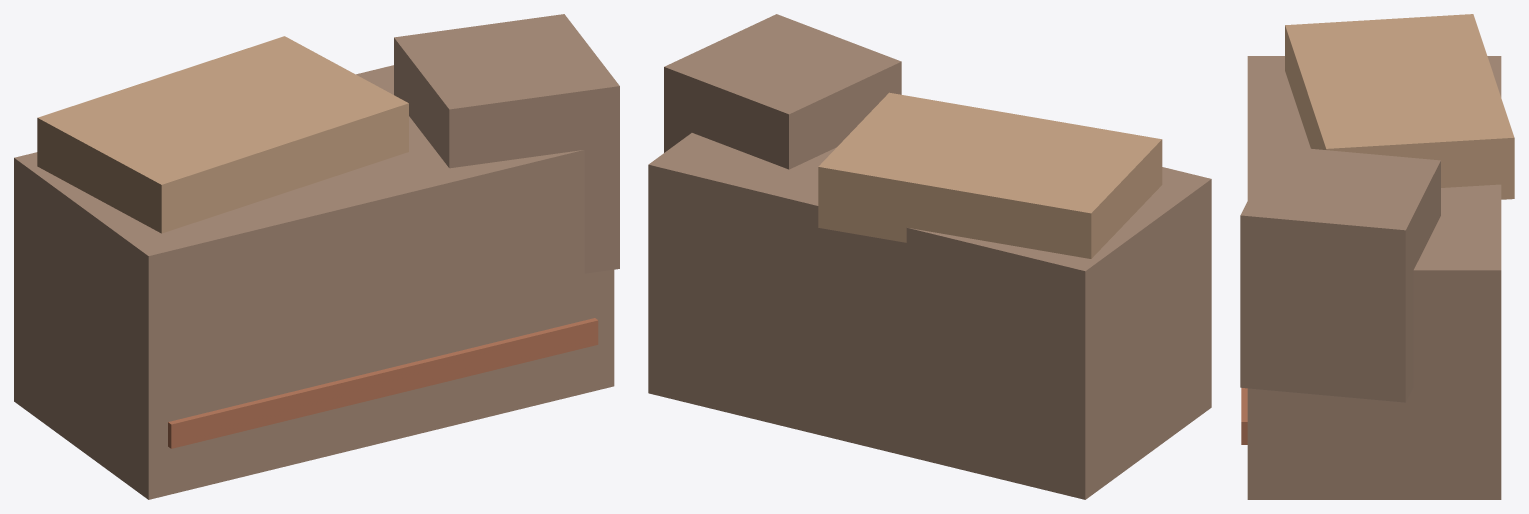
File: Cliff.glb
The picture shows the model from 3 angles, left to right: view 1: azimuth 30°, elevation 25°; view 2: azimuth 150°, elevation 25°; view 3: azimuth 270°, elevation 25°; orthographic projection. The views are drawn at different scales.
Visible parts, largest first — view 1: Cliff; view 2: Cliff; view 3: Cliff.
Boxes of the visible parts, x1=… form: Cliff: x1=14, y1=14, x2=619, y2=499; Cliff: x1=648, y1=14, x2=1211, y2=499; Cliff: x1=1240, y1=14, x2=1514, y2=499.
Size of the model in its own units: 12.87 by 7.45 by 6.49.
